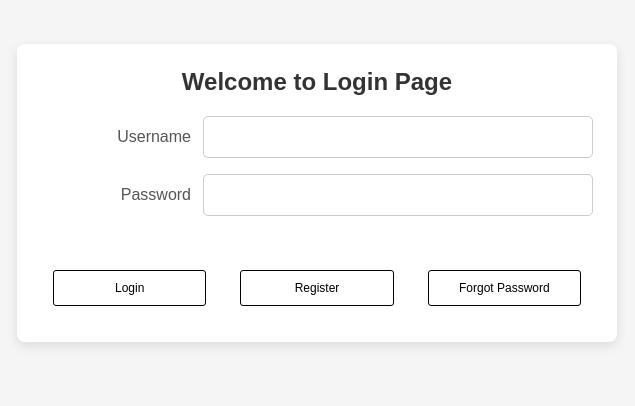
it: Login component › renders and submits login form
The image size is (635, 406).
expect the password field labelled "Password" is shown: met, box x1=203 y1=174 x2=593 y2=216
expect the button "Login" is shown: met, box x1=53 y1=270 x2=206 y2=306
# Simulate typing "testuser" into username input
Type "testuser" into the field labelled "Username".
click(398, 137); type("testuser")  # box x1=203 y1=116 x2=593 y2=158
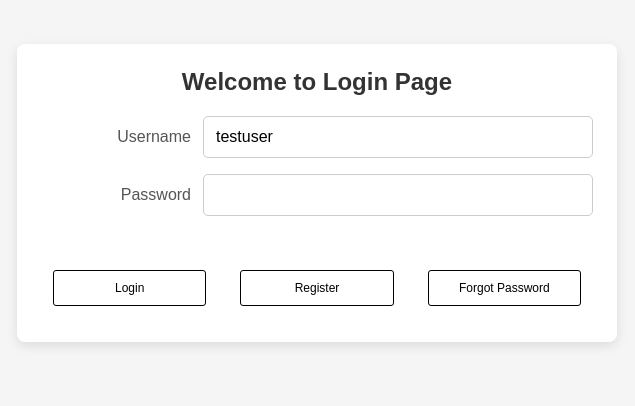
# Simulate typing "testpass" into password input
Type "testpass" into the password field labelled "Password".
click(398, 195); type("testpass")  # box x1=203 y1=174 x2=593 y2=216
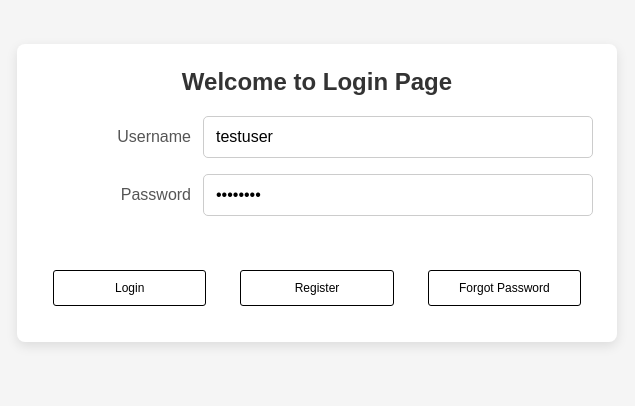
# Simulate click on the login button to submit form
Click the button "Login".
click(130, 288)  # box x1=53 y1=270 x2=206 y2=306
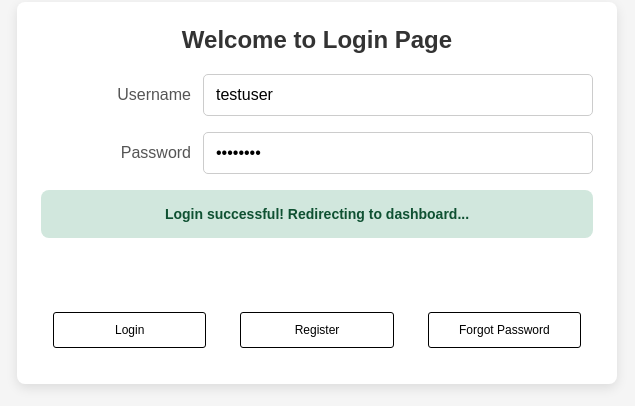
expect the text "Login successful! Redirecting to dashboard..." is shown: met, box x1=41 y1=190 x2=593 y2=238
